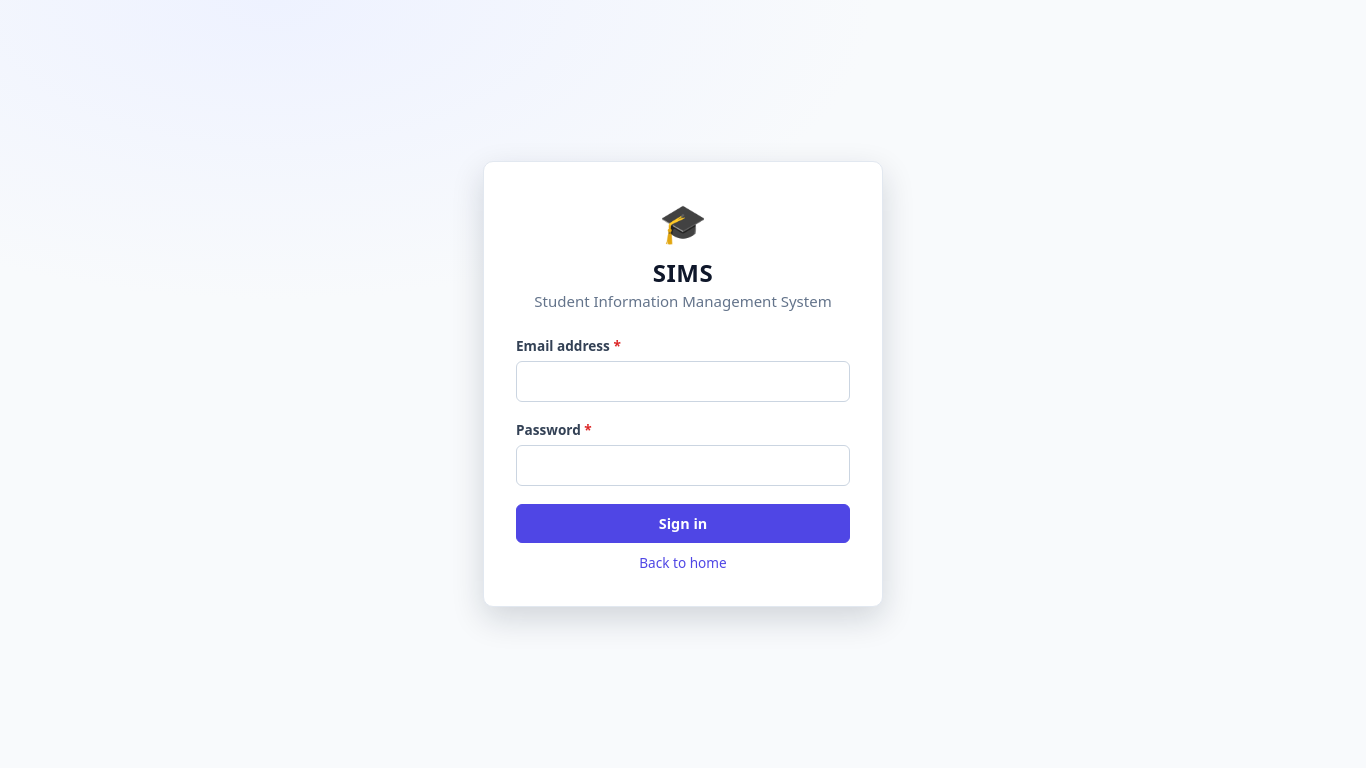
authentication › signs in a valid user and lands on the dashboard
Type "admin@sims.test" into the field labelled "Email address *" at (683, 381), box 516,361 -> 850,402
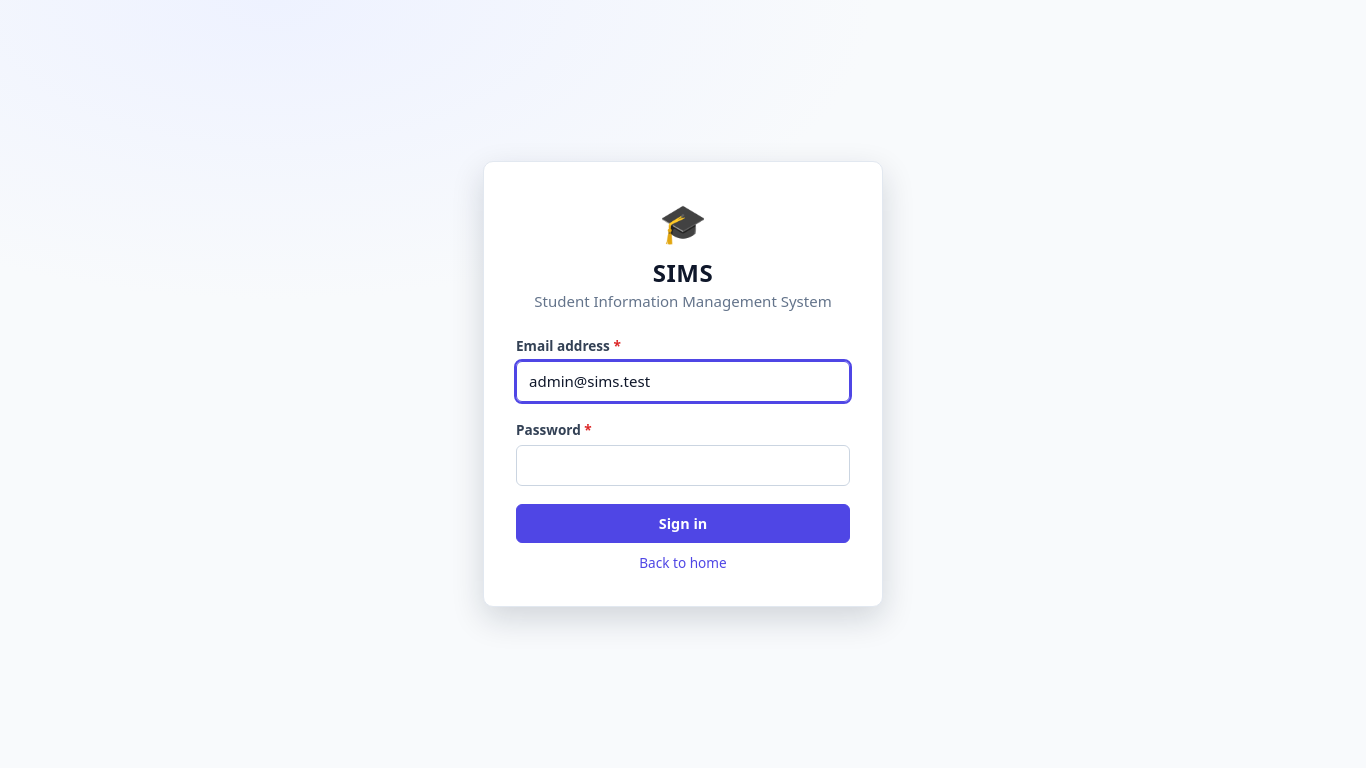
Type "password" into the password field labelled "Password *" at (683, 465), box 516,445 -> 850,486
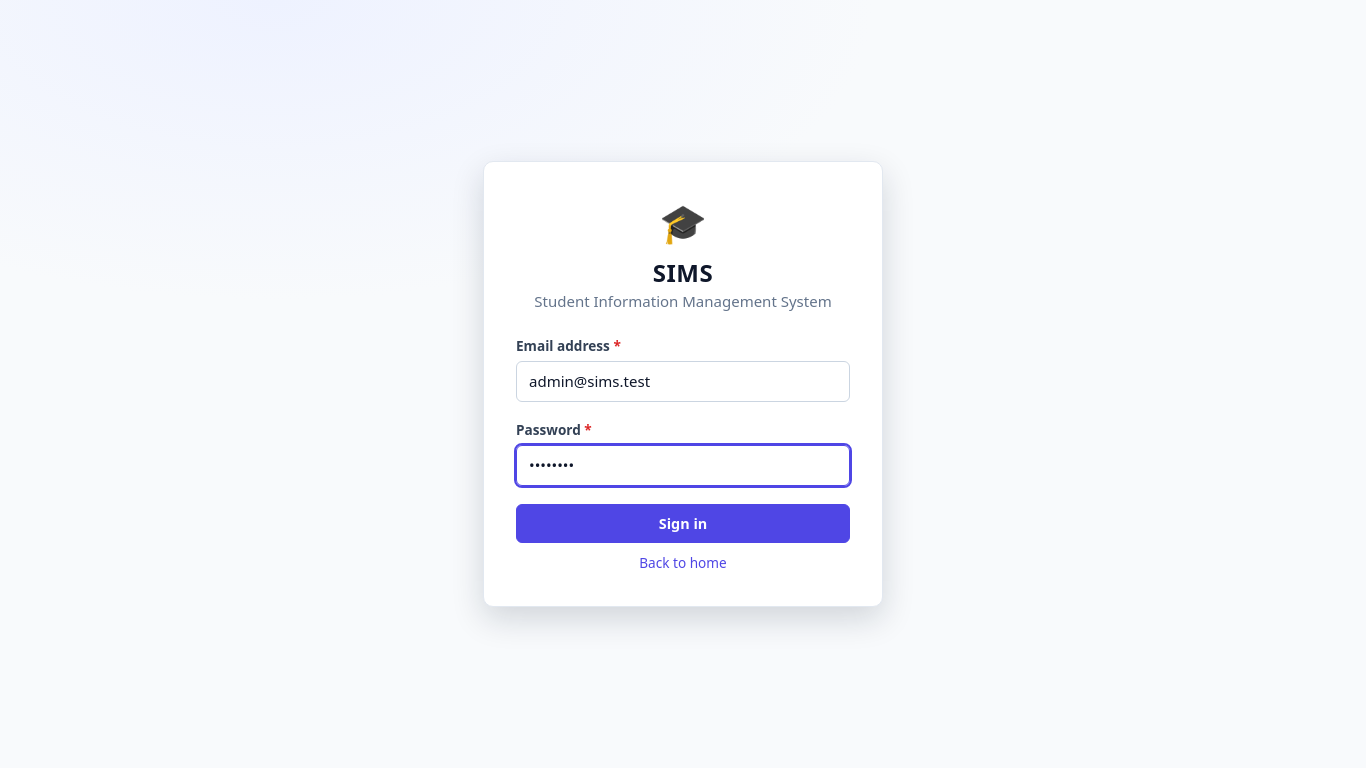
Click the button "Sign in" at (683, 523), box 516,504 -> 850,543
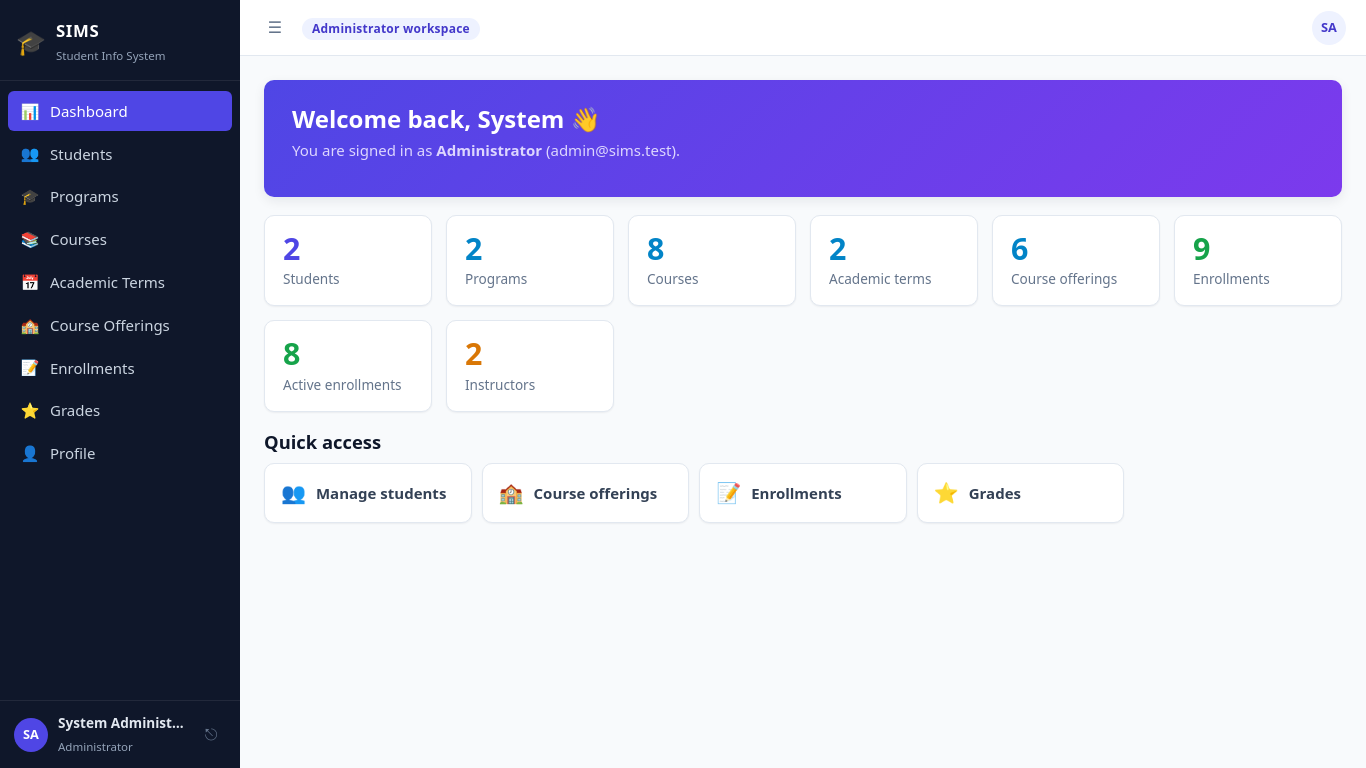
Check: the heading "Welcome back, System 👋" is shown, box 292,102 -> 601,135
